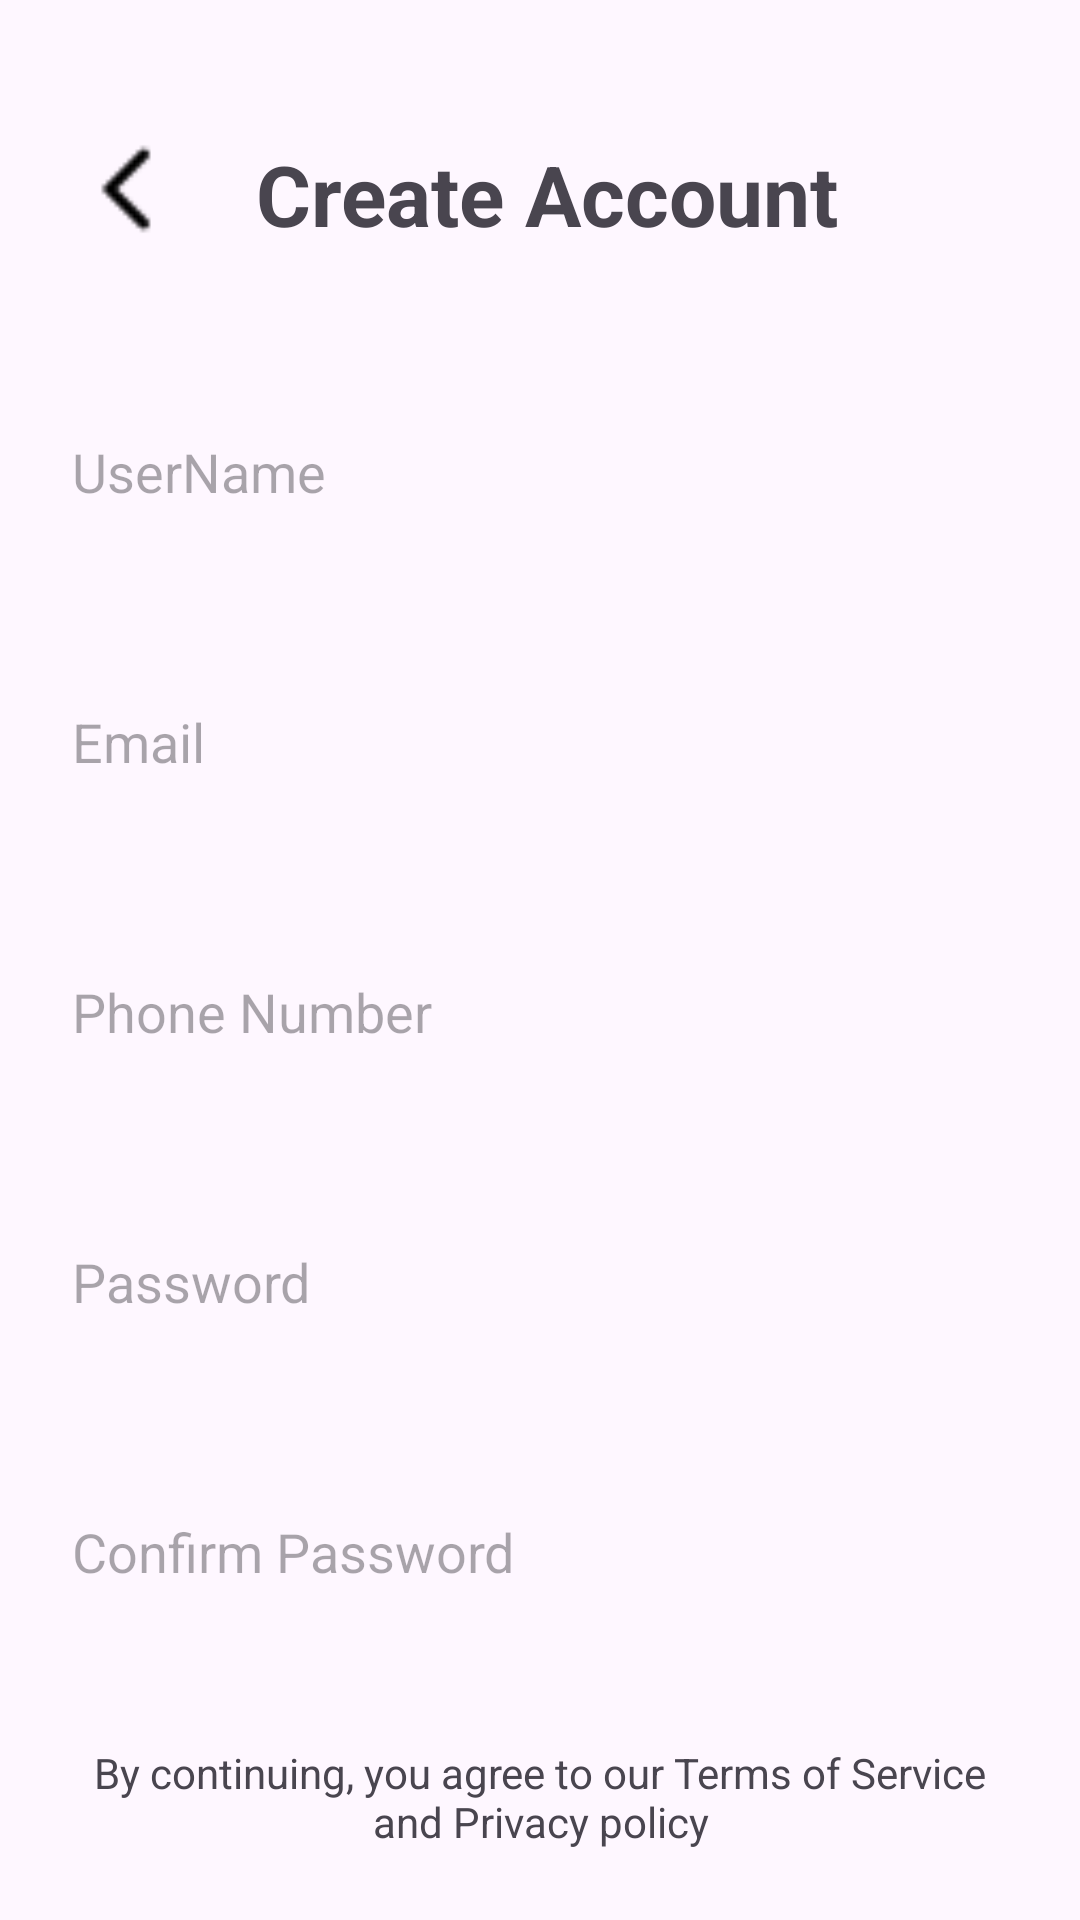

Icon click points for this 1080×1920 phone screenshot, format (x=x, y=y):
back arrow: (x=126, y=189)
